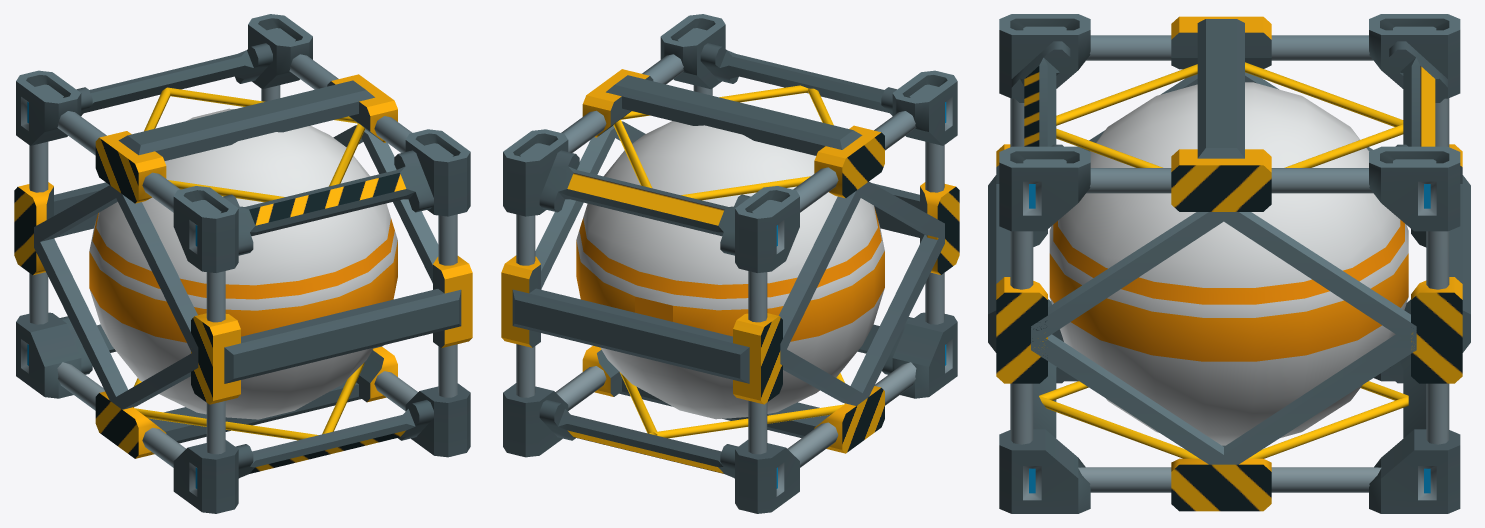
File: Gas_cistern_type_B_002.fbx
3 renders of one model, left to right at view 1: azimuth 30°, elevation 25°; view 2: azimuth 150°, elevation 25°; view 3: azimuth 270°, elevation 25°, orthographic. The views are drawn at different scales.
Visible parts, largest first — view 1: Gas_cistern_type_B_002; view 2: Gas_cistern_type_B_002; view 3: Gas_cistern_type_B_002.
Part boxes in pixels (left/top/right/bottom): Gas_cistern_type_B_002: left=14, top=14, right=472, bottom=513; Gas_cistern_type_B_002: left=501, top=14, right=959, bottom=513; Gas_cistern_type_B_002: left=988, top=14, right=1470, bottom=513.
Bounding box in the file's own units: 240 × 318 × 263.
